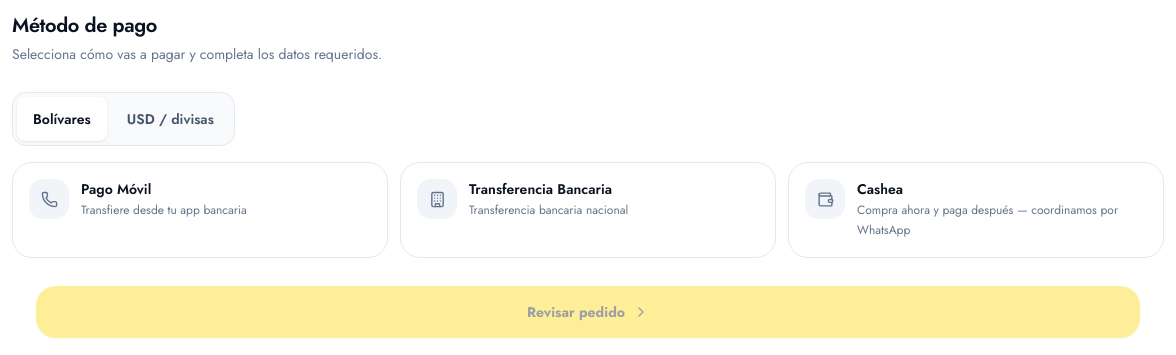
PaymentForm currency groups › el selector Bolívares / USD-divisas permanece funcional
Step 1. Click the tab "USD / divisas" → [170, 119], box [111,97,230,141]
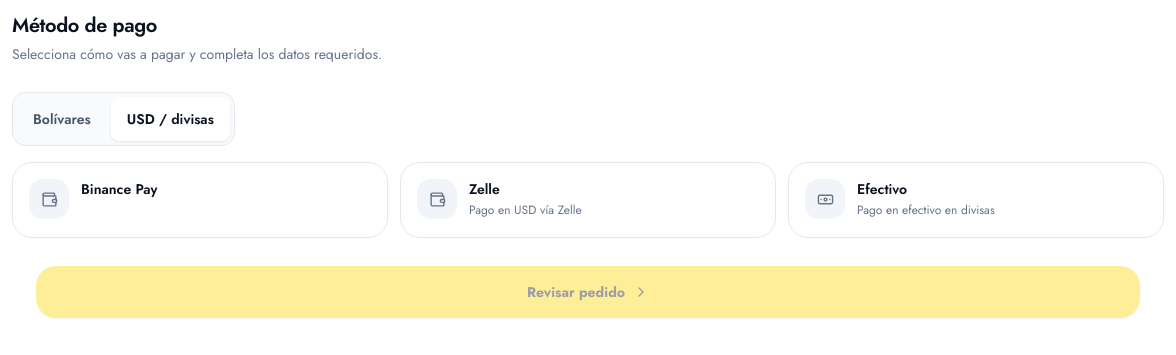
Expected: the tab "USD / divisas" is selected, [111,97,230,141]
Step 2. Click the tab "Bolívares" → [62, 119], box [17,97,107,141]
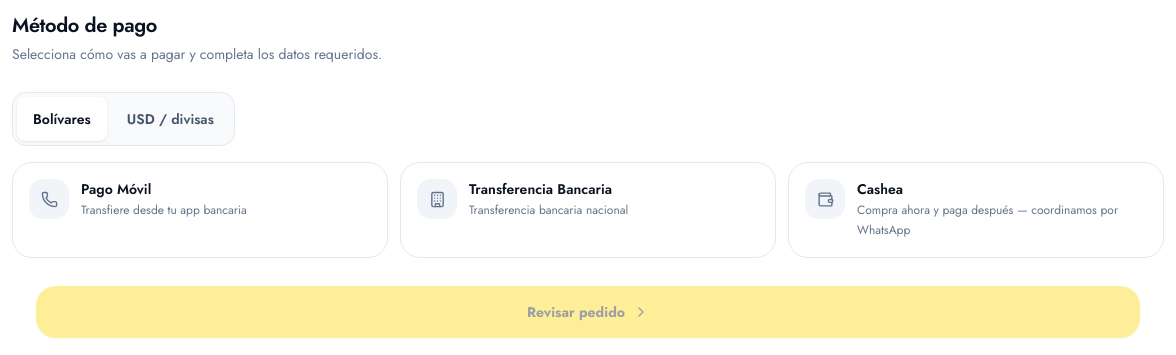
Expected: the button "Pago Móvil Transfiere desde tu app bancaria" is shown, [12,162,388,258]
